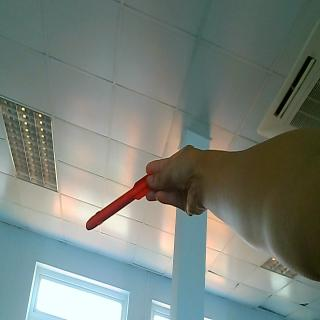Rocket: (85, 179, 146, 230)
